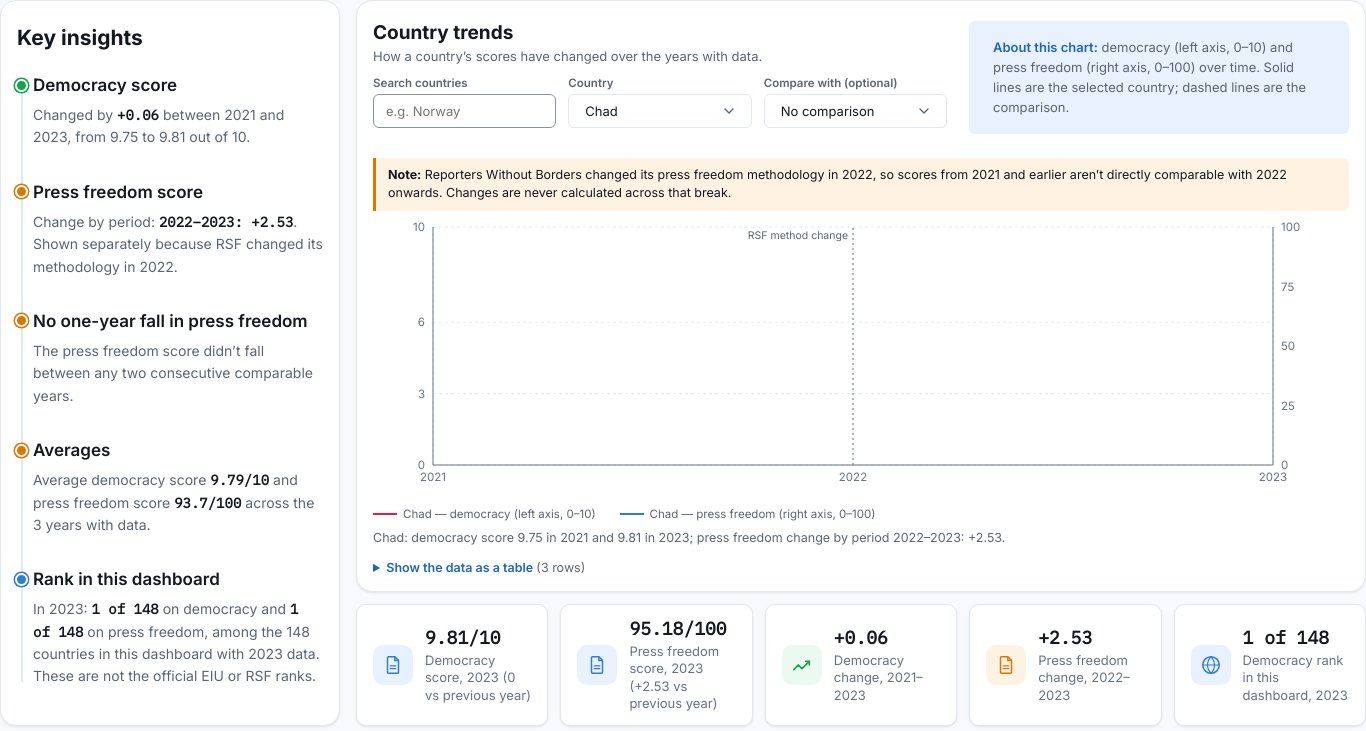
Test: Country trends › shows an empty state when no country matches the search
The image size is (1366, 731).
Type "Atlantis" into the search field labelled "Search countries" at x=465, y=111, box [373,94,556,128]
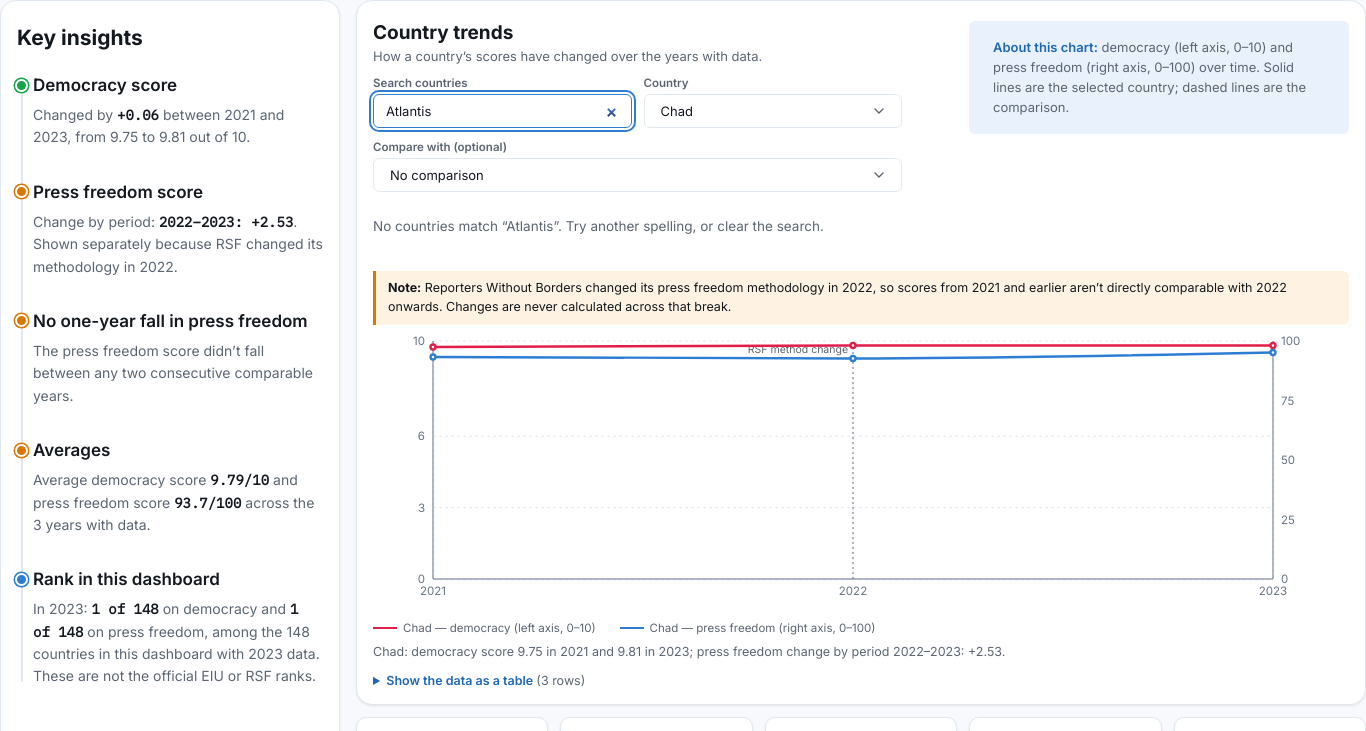
expect the message shows "No countries match “Atlantis”": met, box [373,218,824,234]
